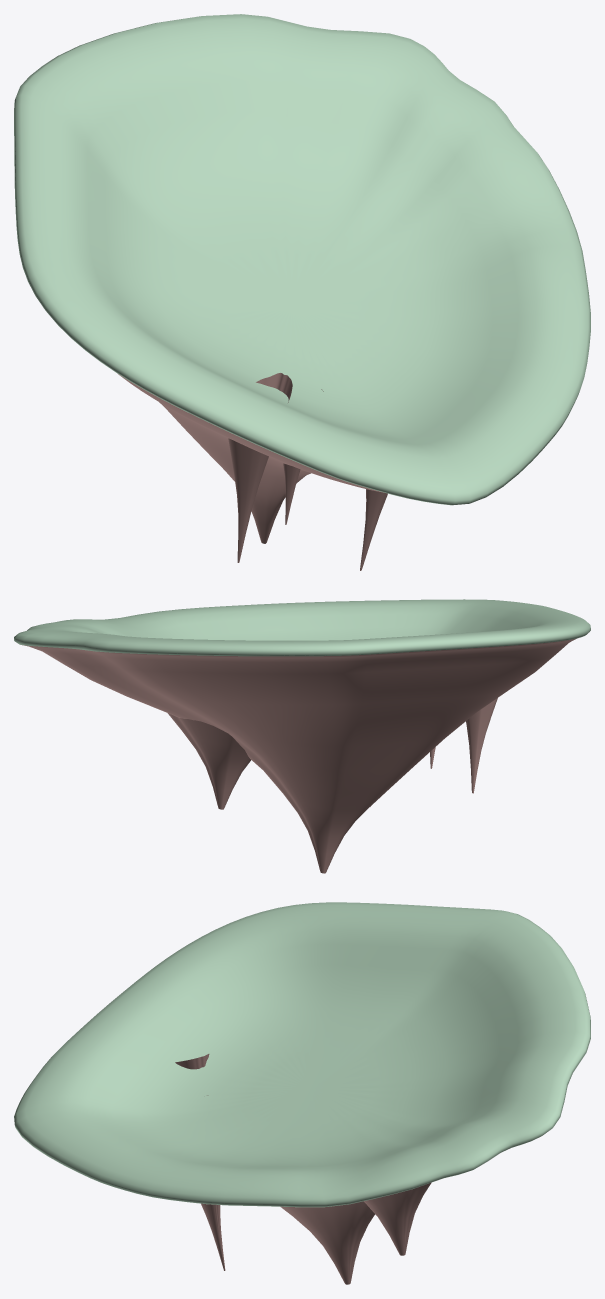
Rendered from Island 2.fbx.
3 views of the same model, one above another, from view 1: azimuth 30°, elevation 25°; view 2: azimuth 150°, elevation 25°; view 3: azimuth 270°, elevation 25° (orthographic). The views are drawn at different scales.
Parts seen in each view (by area): view 1: Plane.011; view 2: Plane.011; view 3: Plane.011.
Boxes of the visible parts, x1=… form: Plane.011: x1=14, y1=14, x2=590, y2=570; Plane.011: x1=14, y1=599, x2=590, y2=873; Plane.011: x1=14, y1=902, x2=590, y2=1284.
Size of the model in its own units: 1.65 by 1.1 by 1.8.
